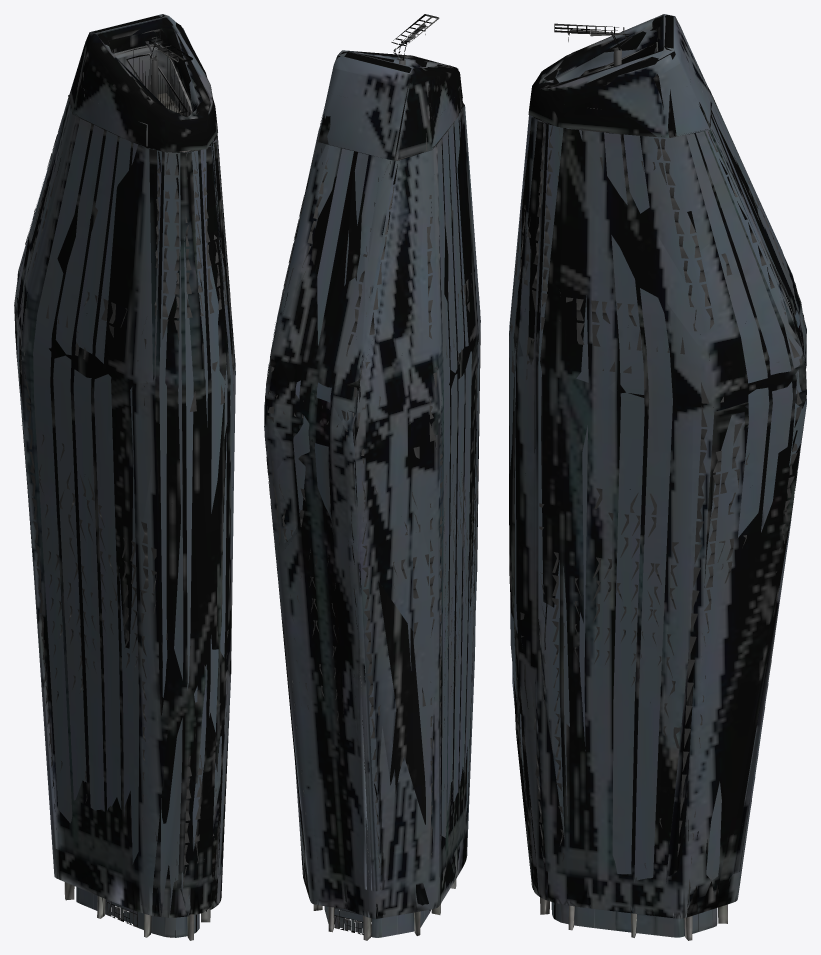
Rendered from curved_glass_tower_lod1.glb.
The picture shows the model from 3 angles, left to right: view 1: azimuth 30°, elevation 25°; view 2: azimuth 150°, elevation 25°; view 3: azimuth 270°, elevation 25°; orthographic projection. The views are drawn at different scales.
Visible parts, largest first — view 1: curved_glass_tower; view 2: curved_glass_tower; view 3: curved_glass_tower.
Part boxes in pixels (left/top/right/bottom): curved_glass_tower: left=14, top=14, right=235, bottom=940; curved_glass_tower: left=264, top=14, right=480, bottom=940; curved_glass_tower: left=509, top=14, right=806, bottom=940.
Size of the model in its own units: 34.81 by 170 by 51.63.
Materials: 1 (1 with a texture image).
